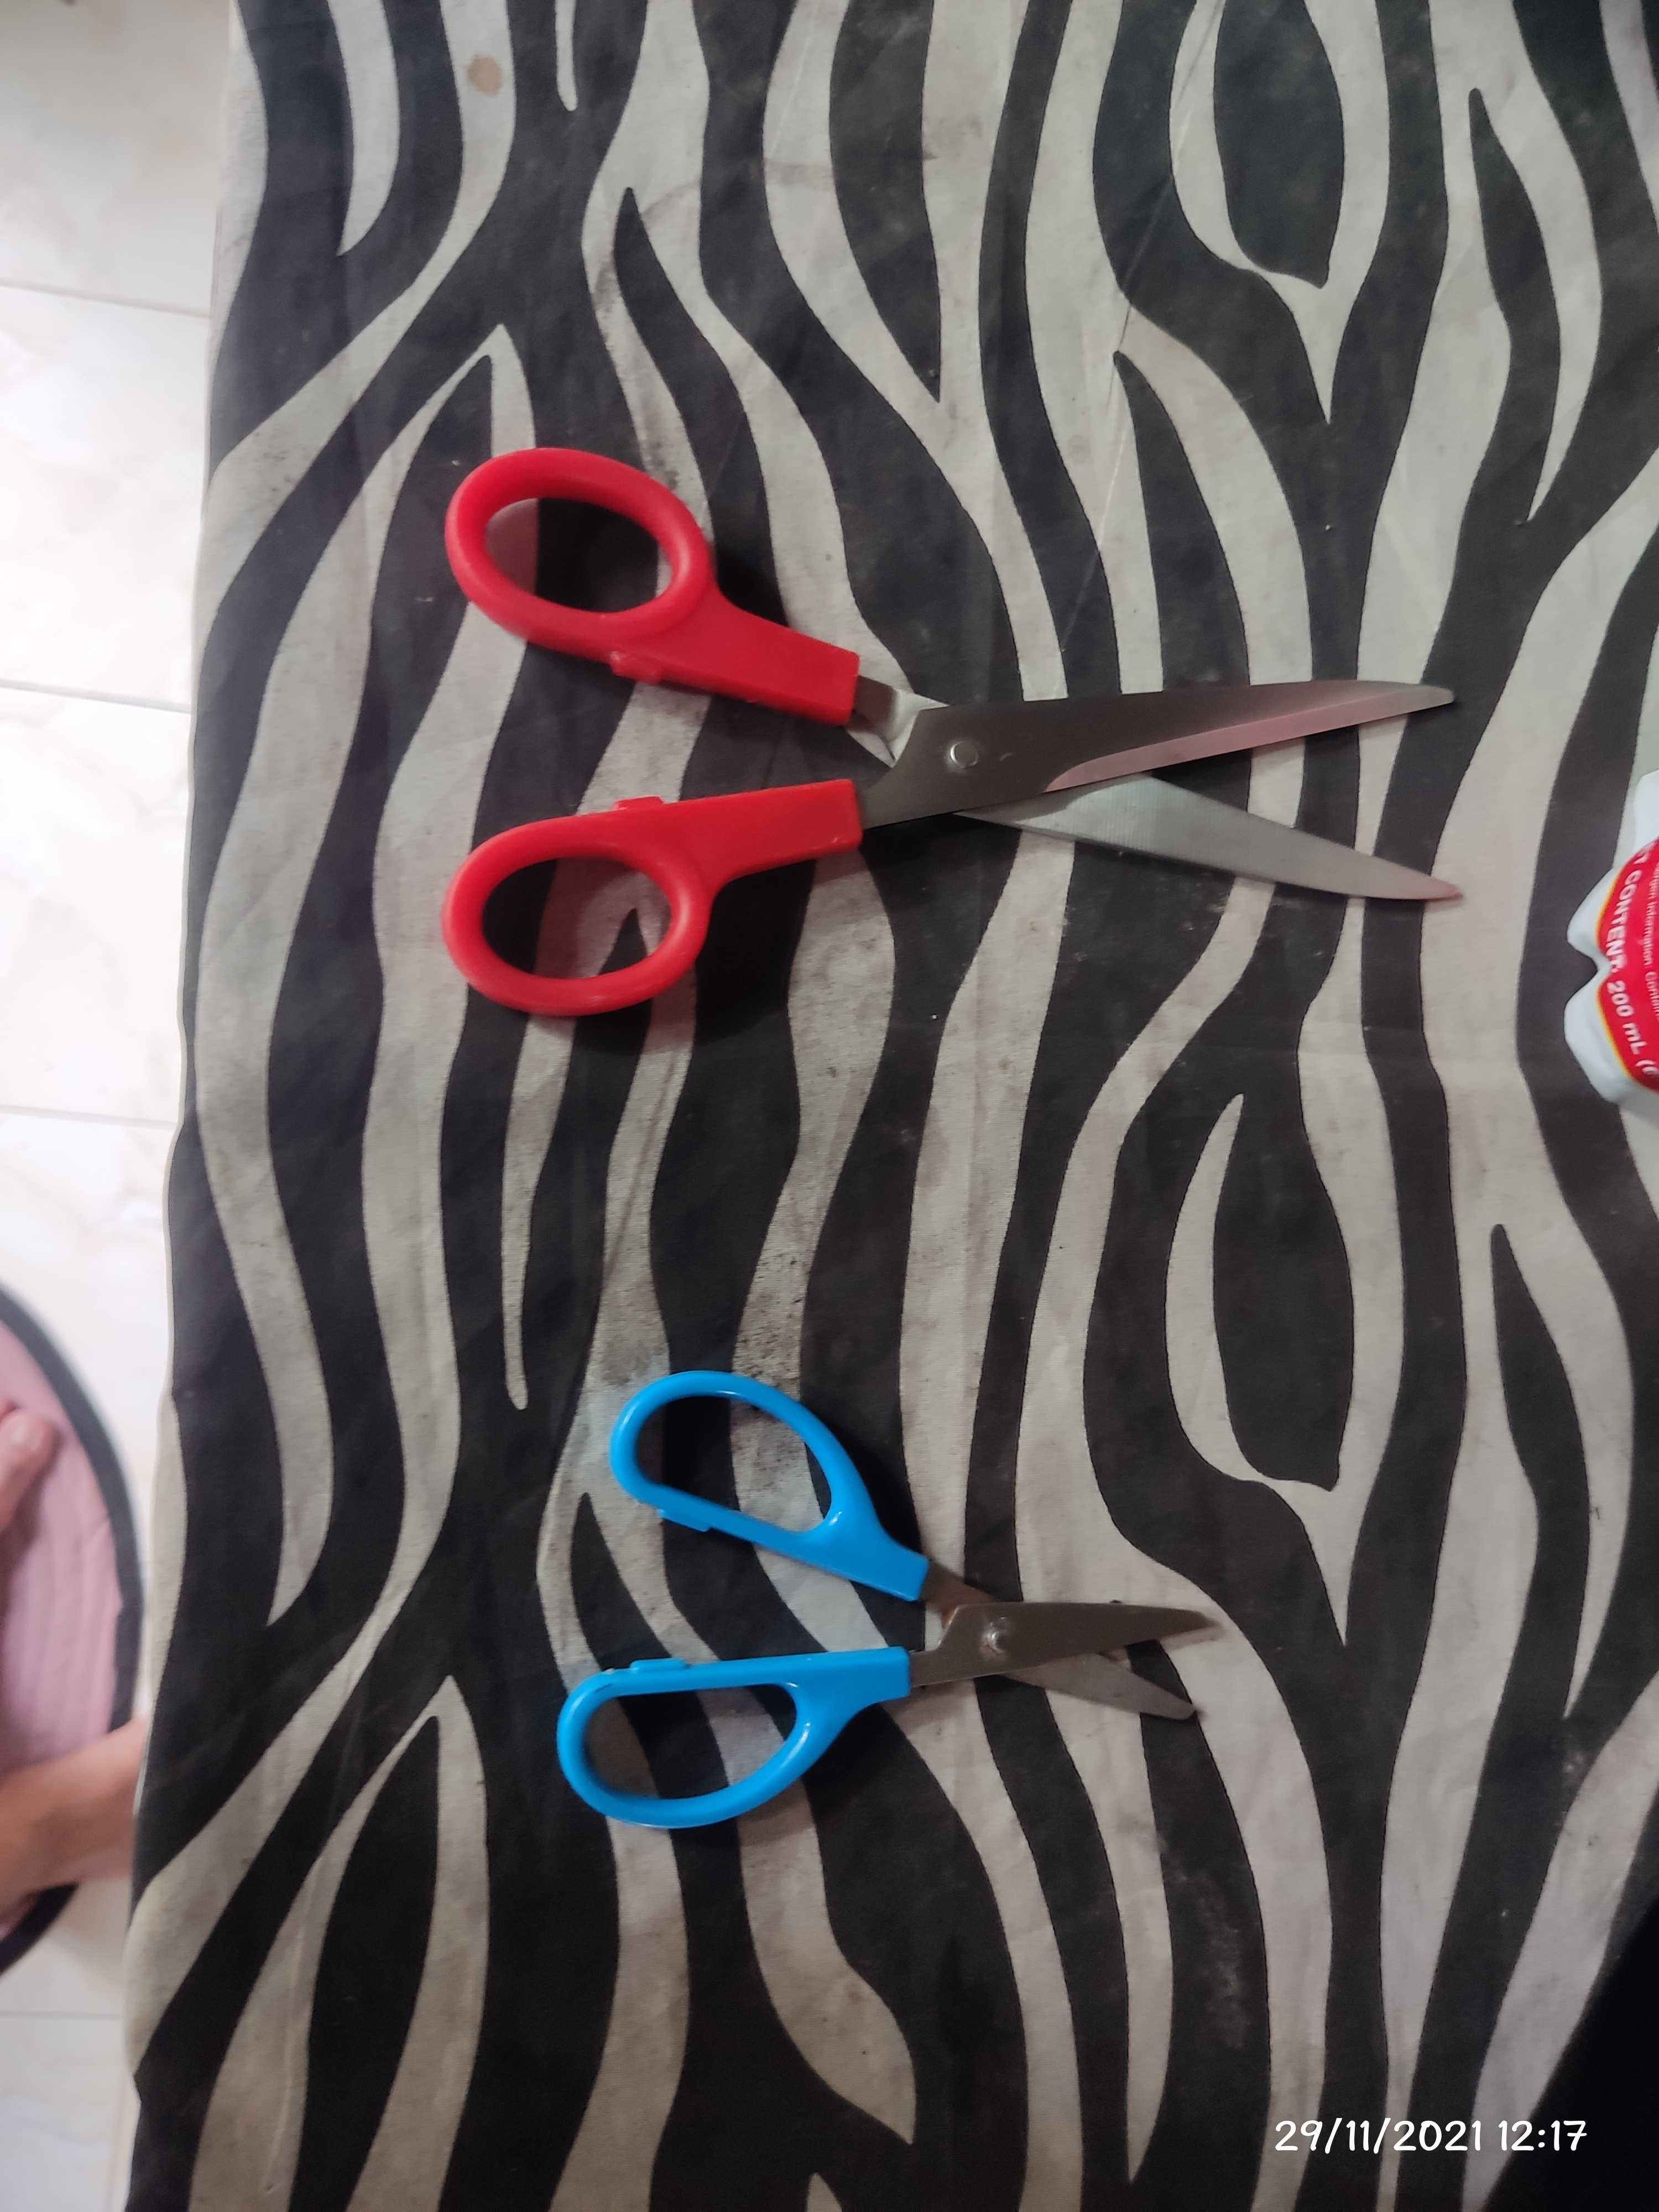scissor: (429, 455, 1464, 1019), (544, 1376, 1213, 1829)
